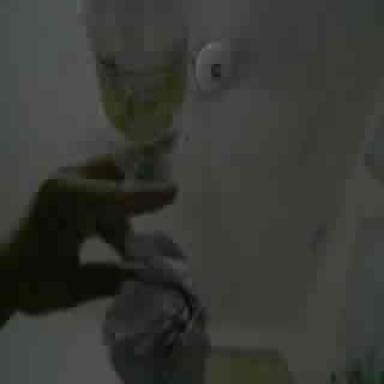bottle: (80, 0, 187, 181)
paper: (104, 235, 209, 381)
